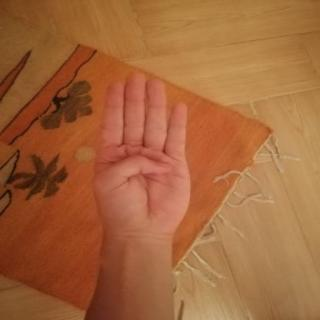KAAF: (78, 64, 210, 250)
